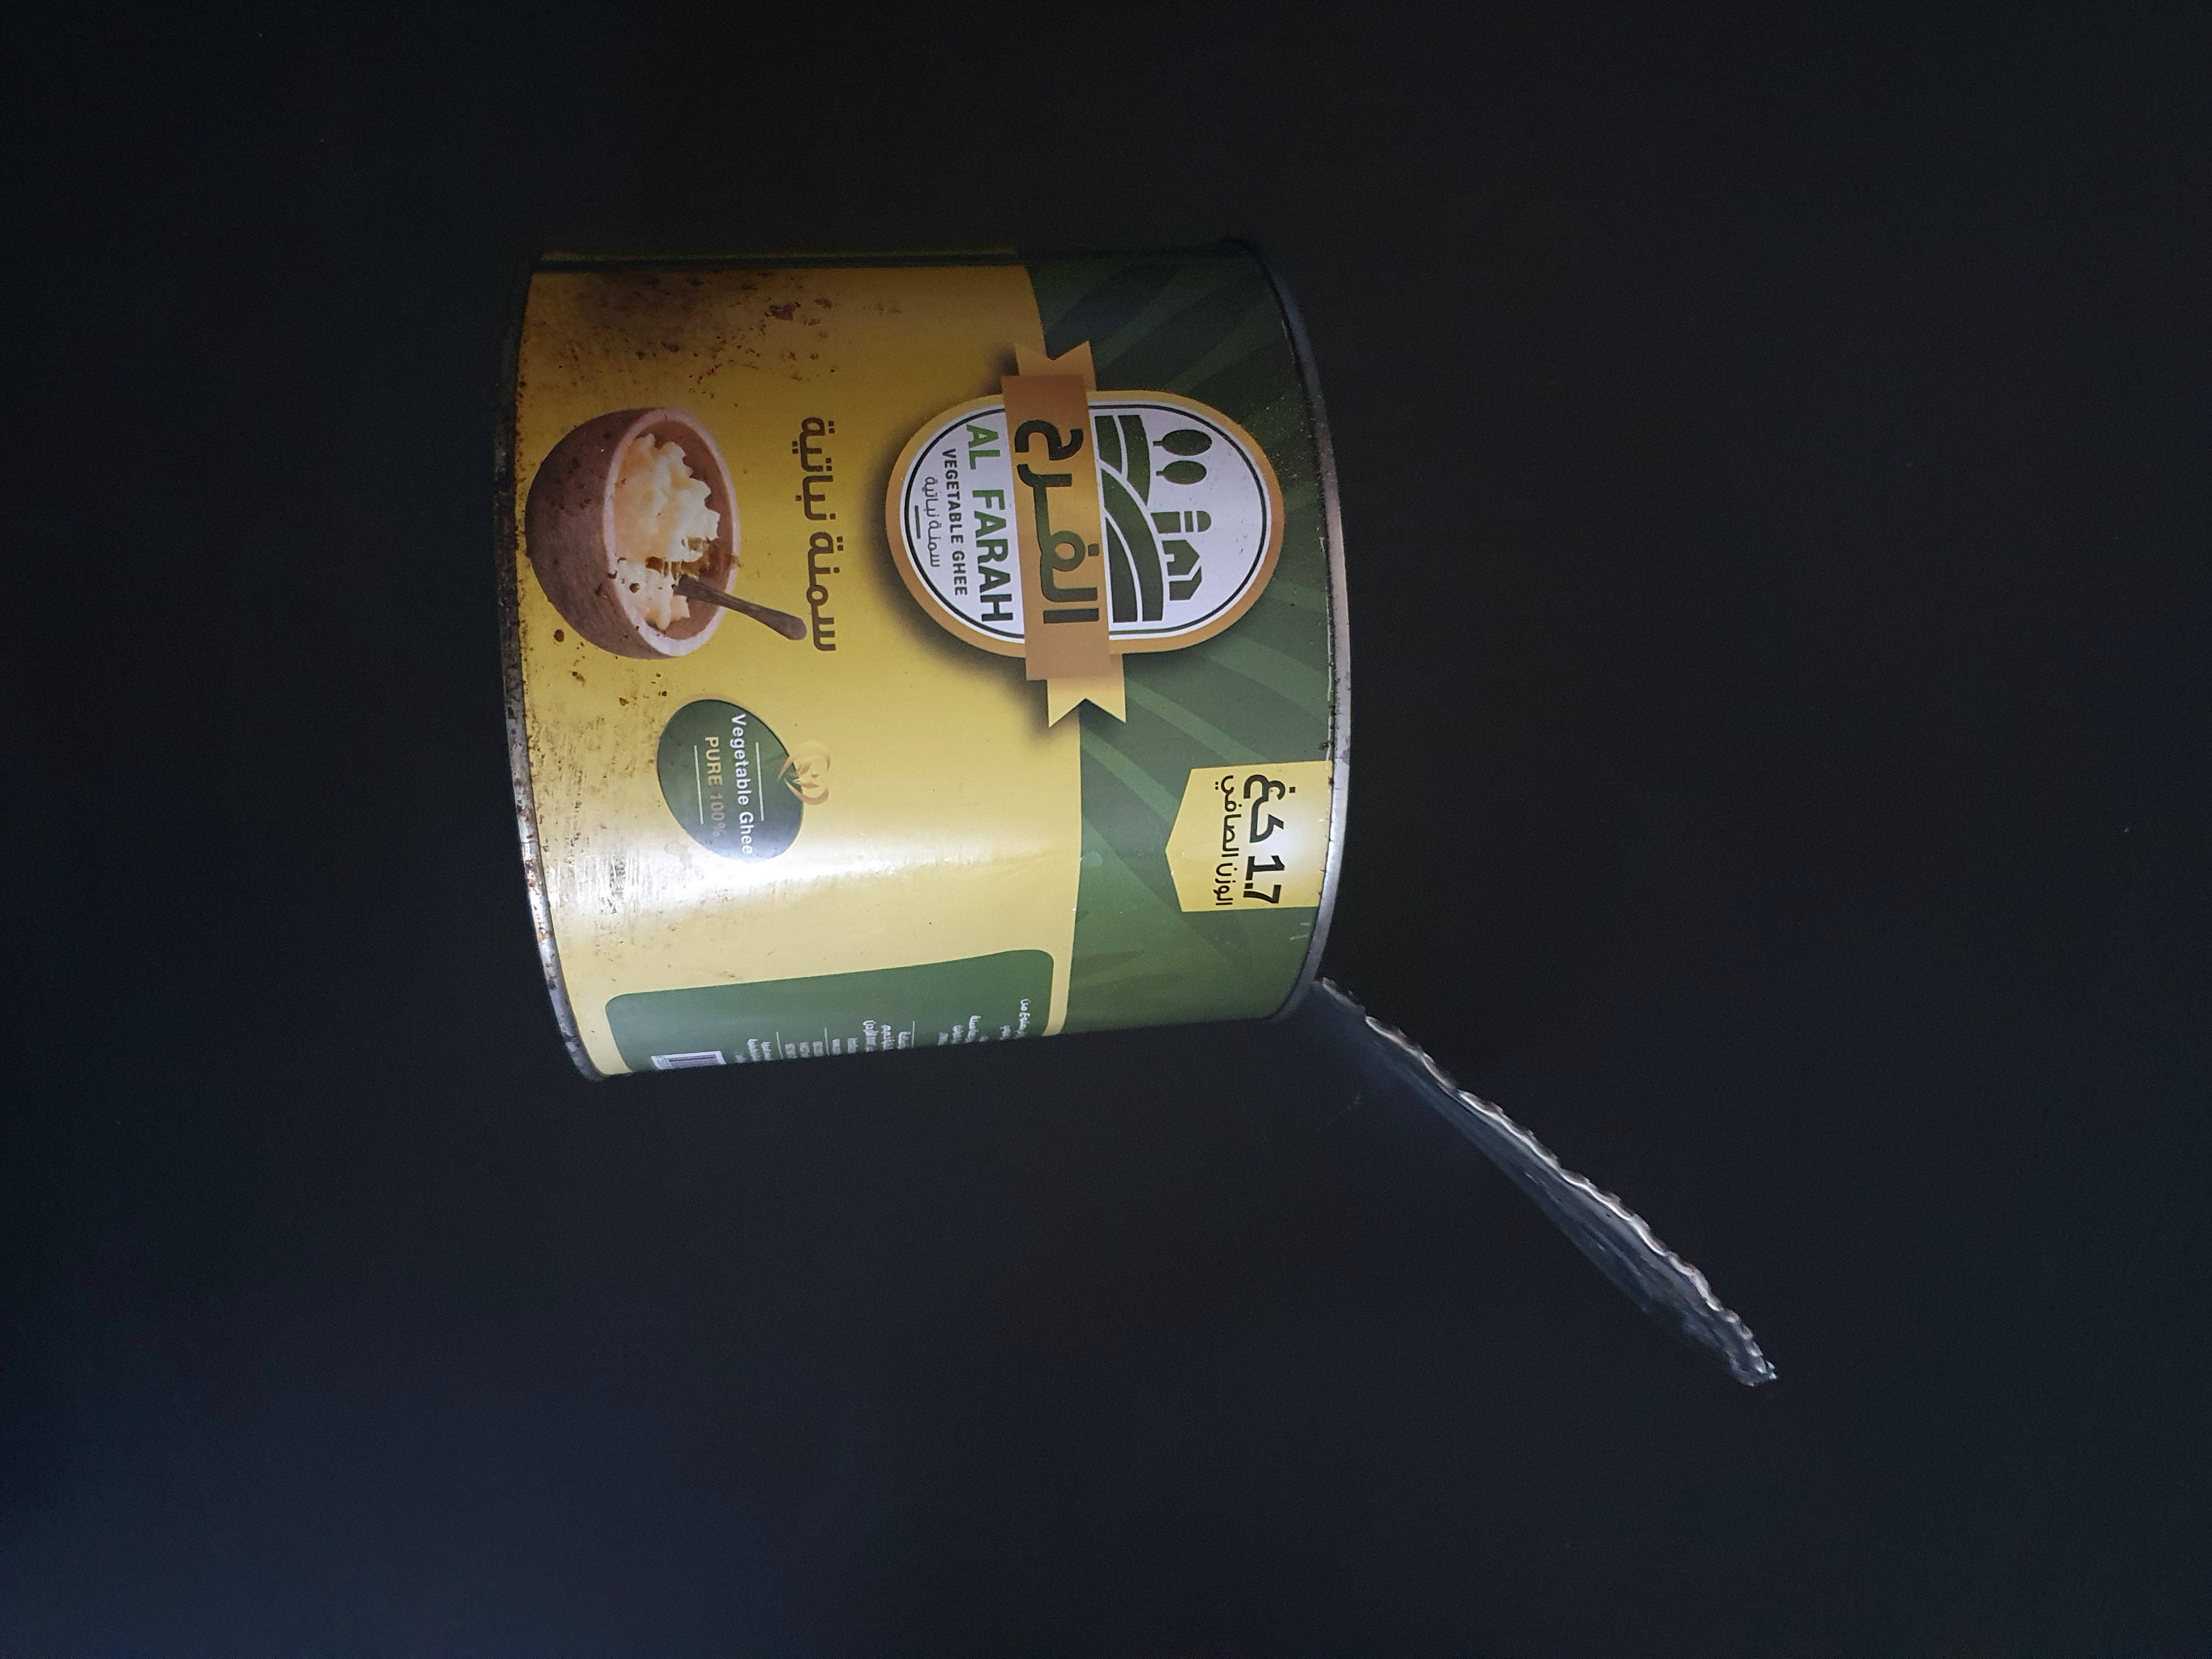metal: (430, 192, 1815, 1417)
